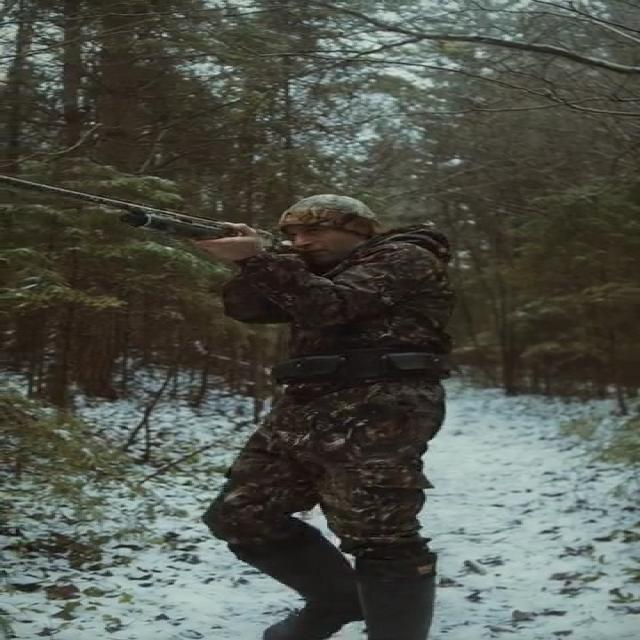Gun_Holder: (5, 172, 291, 277)
Person: (201, 189, 480, 640)
